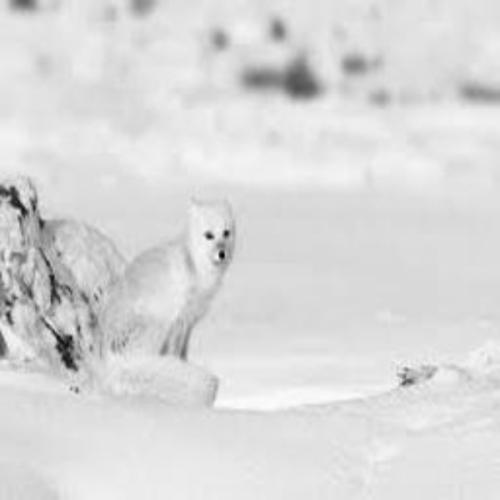arctic_fox-endangered: (78, 197, 238, 408)
